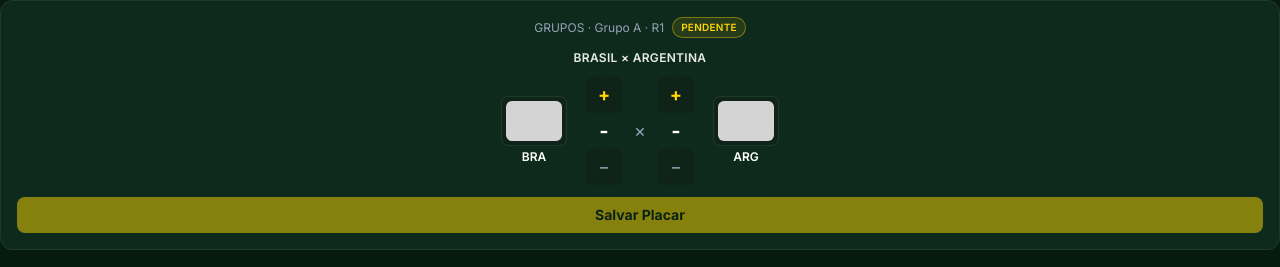
Test: desabilita Salvar enquanto algum lado for nulo
Check: the button "Salvar Placar" is disabled, box [17,197,1263,233]
Click the 1st button "+".
click(604, 95)  # box [586,77,622,113]
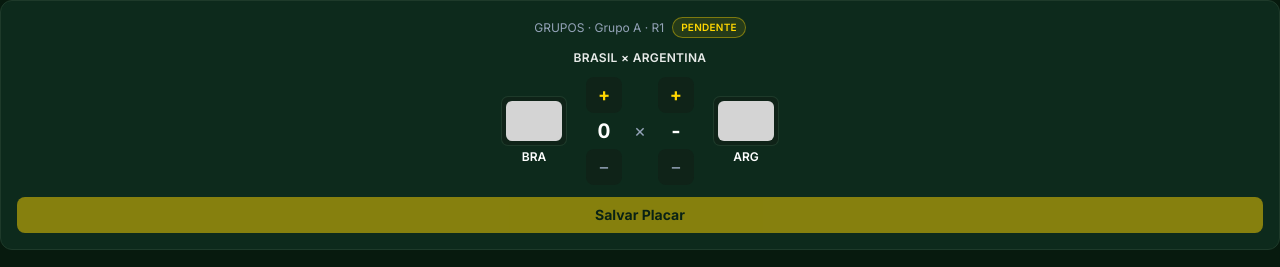
Check: the button "Salvar Placar" is disabled, box [17,197,1263,233]
Click the 2nd button "+".
click(676, 95)  # box [658,77,694,113]
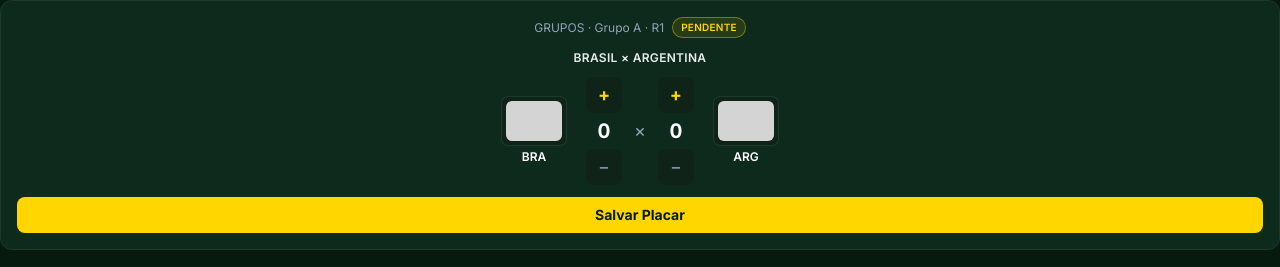
Check: the button "Salvar Placar" is enabled, box [17,197,1263,233]
